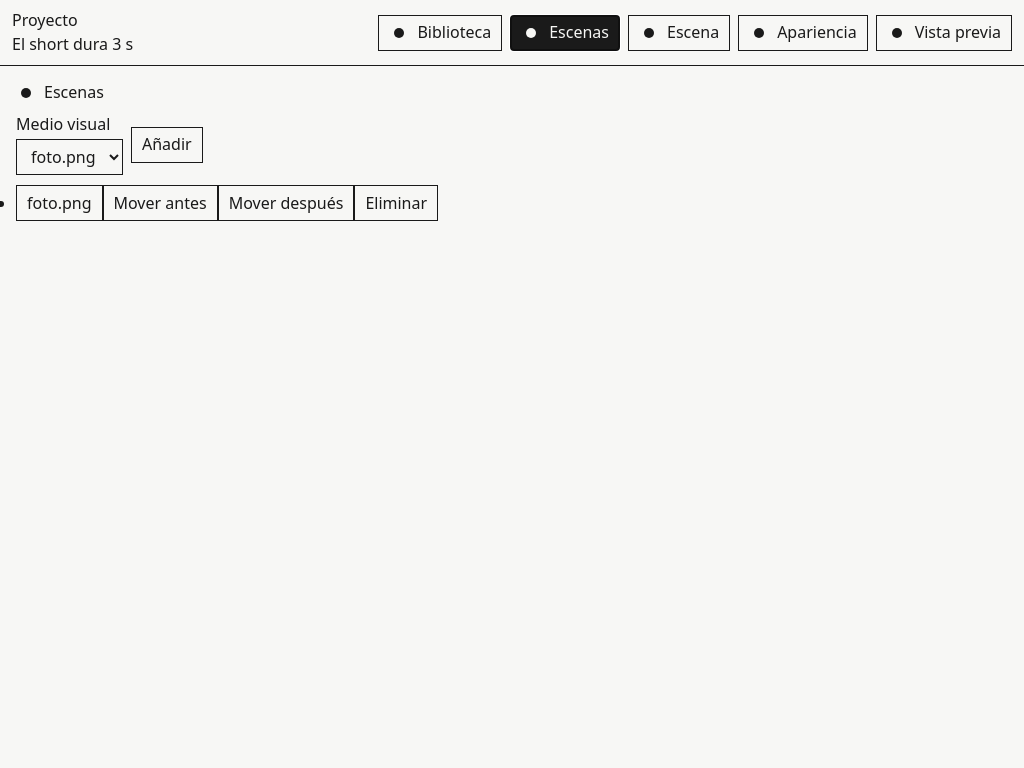
Test case: el bloque Fundido está arriba de los textos, elige el corte con la escena siguiente y en la última no está
This screenshot has width=1024, height=768.
Earlier steps of the test are not shown.
Select "otra.png" in the dropdown labelled "Medio visual": (70, 157) x1=16 y1=139 x2=123 y2=175
Click the button "Añadir": (167, 145) x1=131 y1=127 x2=203 y2=163
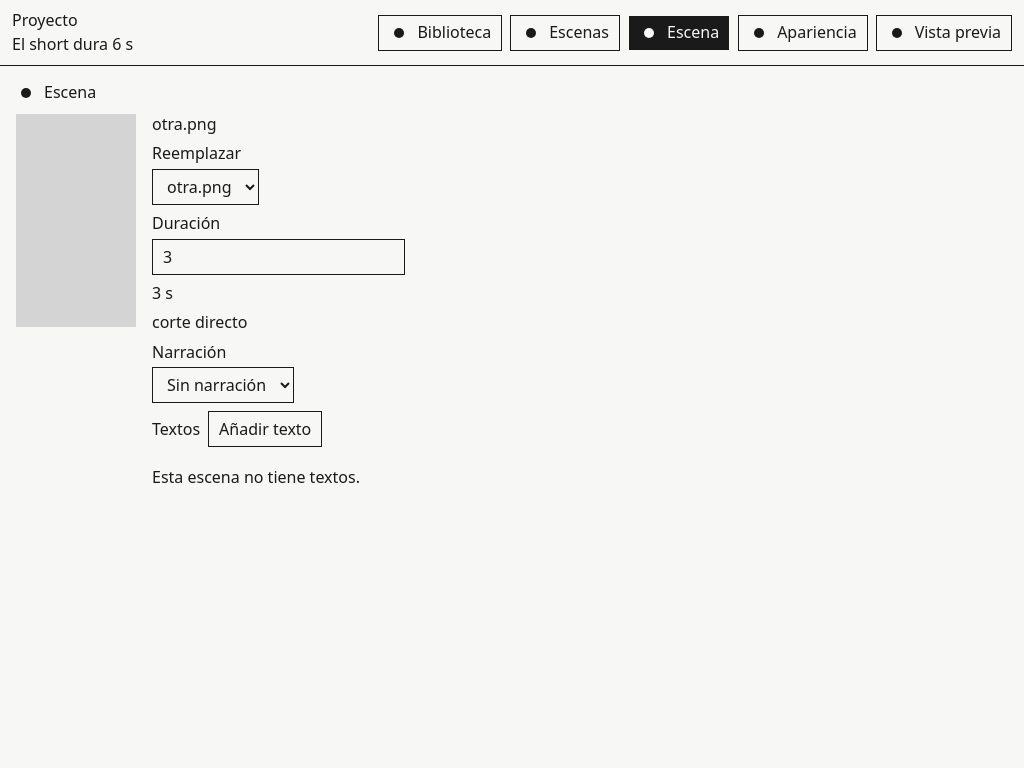
Click the button "Escenas": (565, 33) x1=510 y1=15 x2=620 y2=51
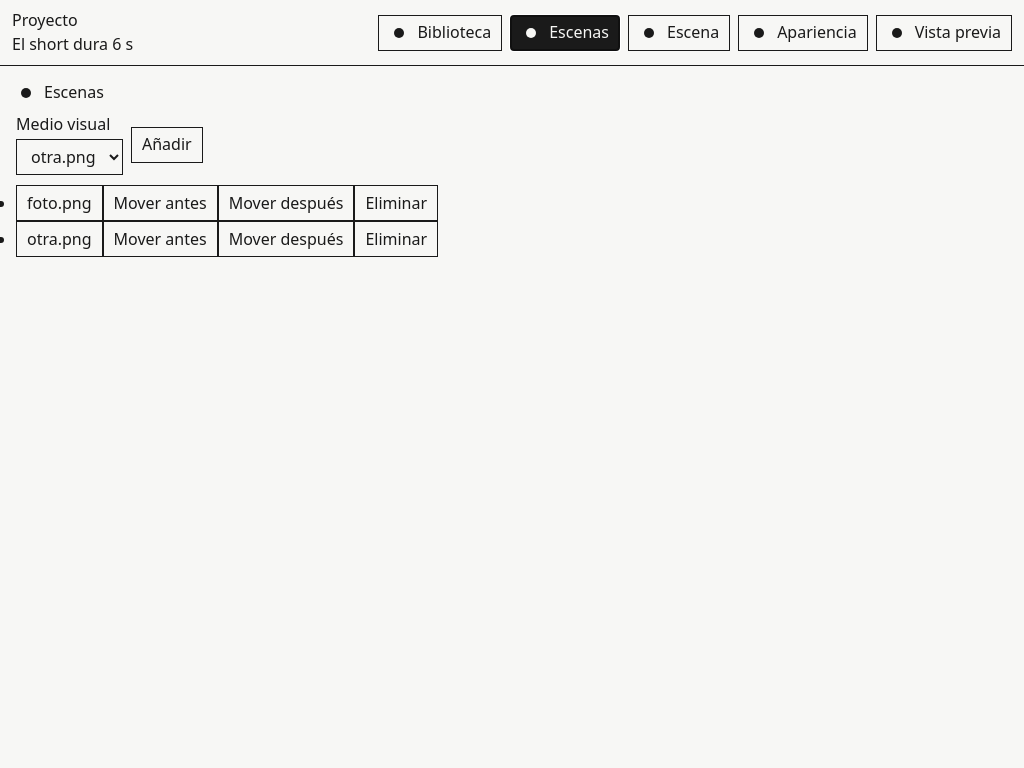
Click the button "foto.png": (59, 203) x1=16 y1=185 x2=102 y2=221
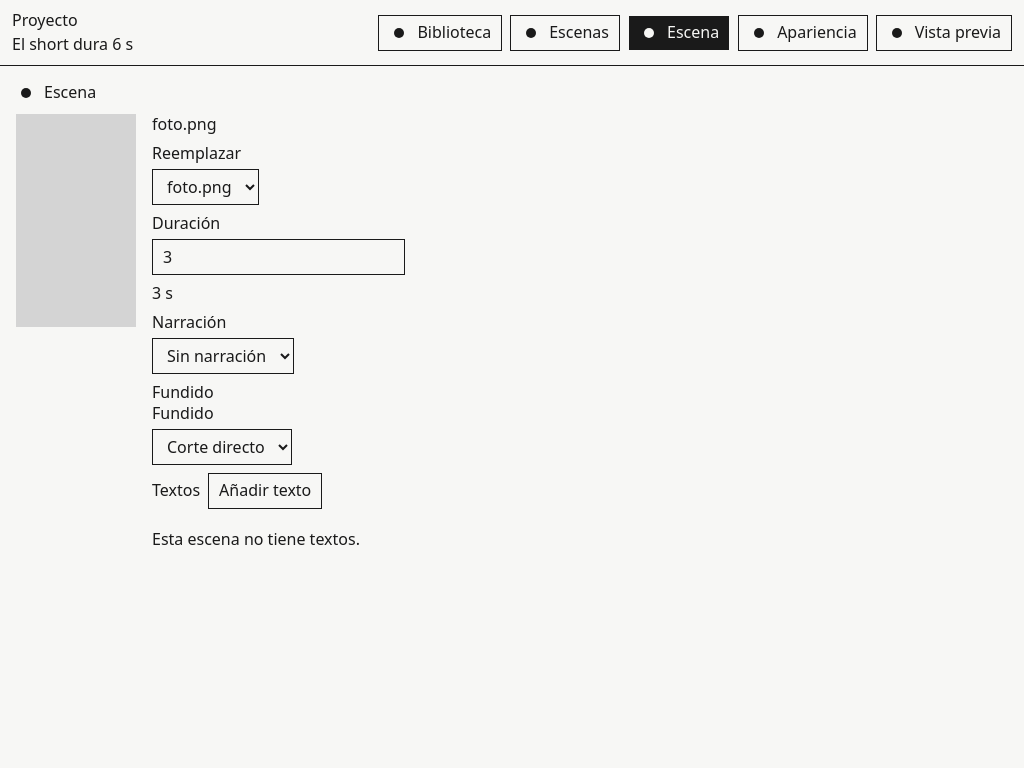
Expected: the number field labelled "Tiempo del fundido" is not shown
Now the dropdown labelled "Fundido" shows "Corte directo"
Select "Fundido" in the dropdown labelled "Fundido": (222, 447) x1=152 y1=429 x2=292 y2=465
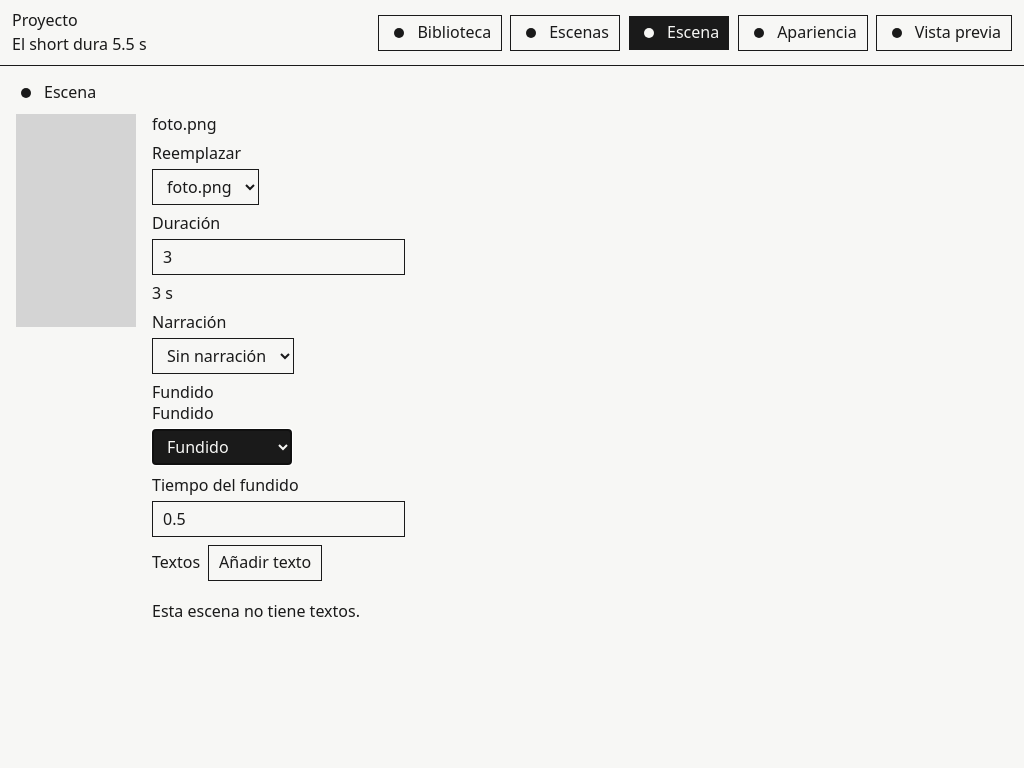
Now the number field labelled "Tiempo del fundido" holds "0.5", box x1=152 y1=500 x2=405 y2=536
Now the text "El short dura 5.5 s" is shown, box x1=12 y1=34 x2=146 y2=55
Click the button "Escenas": (565, 33) x1=510 y1=15 x2=620 y2=51
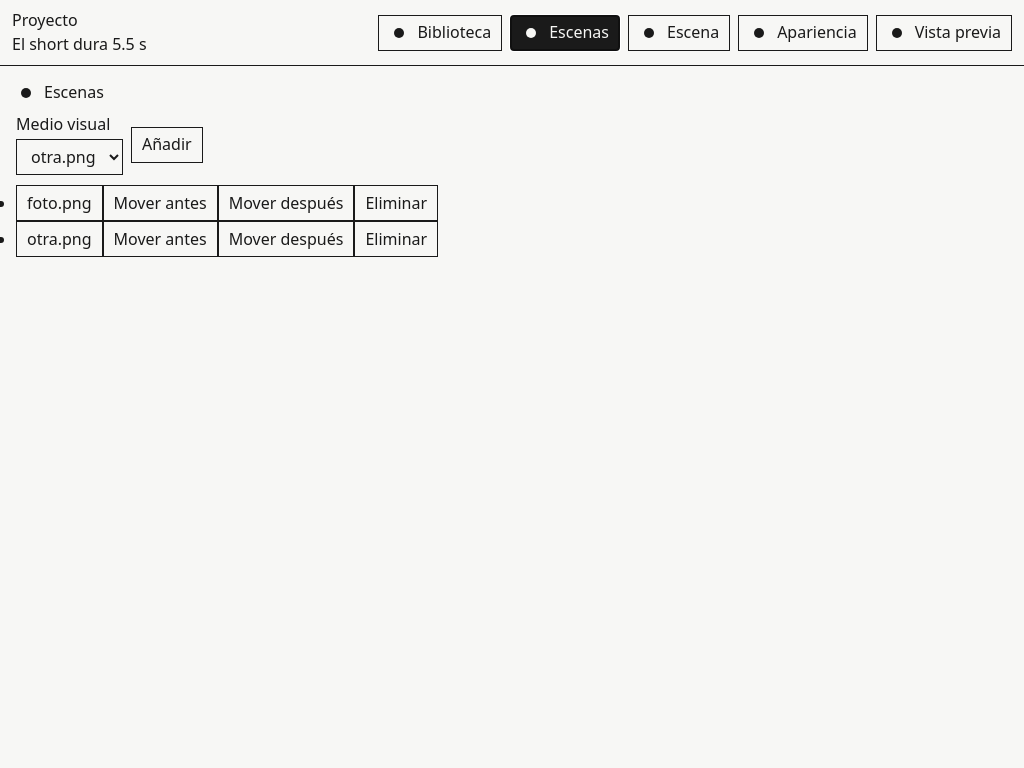
Click the button "otra.png": (59, 239) x1=16 y1=221 x2=103 y2=257
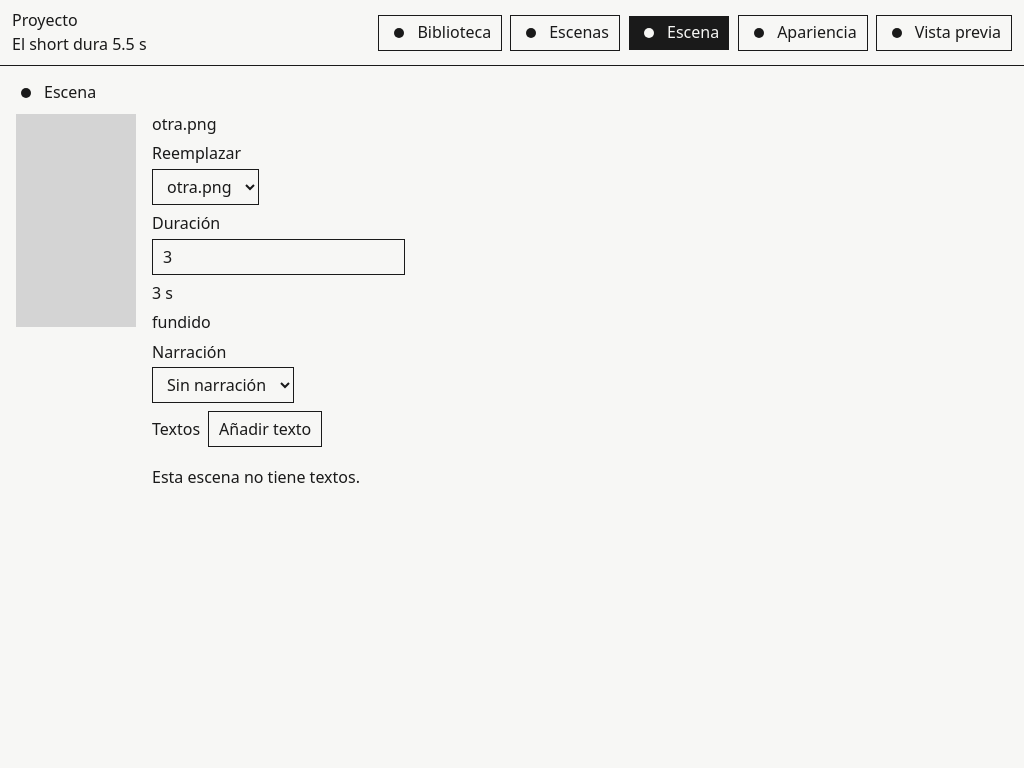
Expected: the label "Tiempo del fundido" is not shown
Now the text "fundido" is shown, box x1=152 y1=311 x2=211 y2=333
